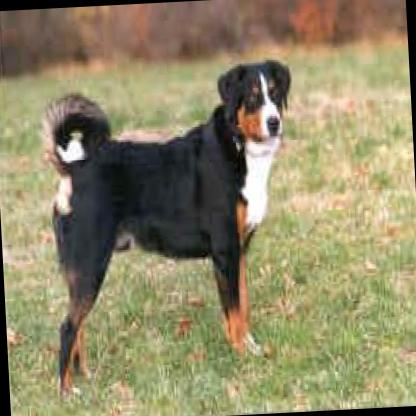Appenzeller: (34, 50, 308, 398)
